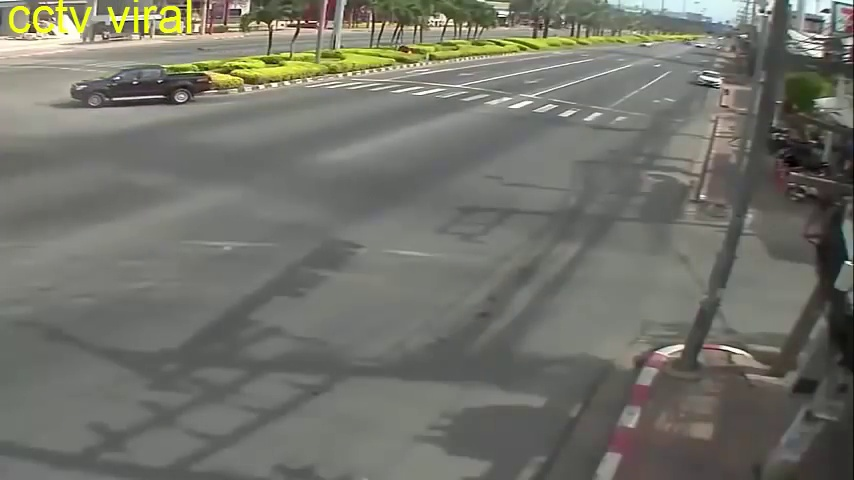car: (69, 66, 212, 113), (697, 65, 723, 91)
